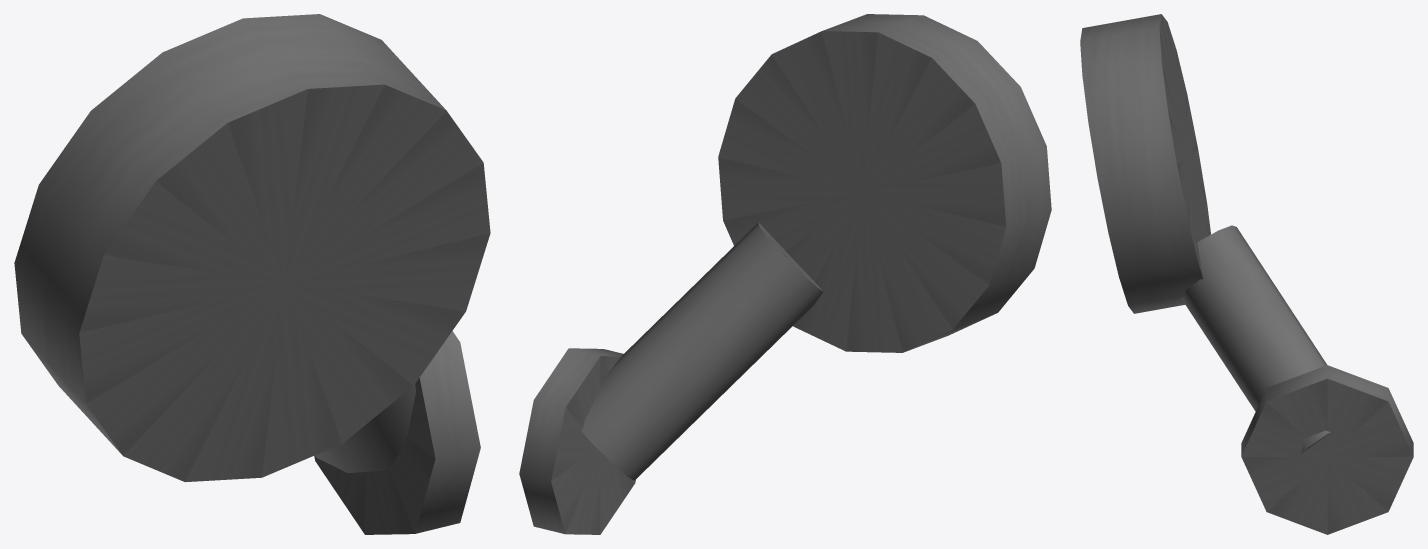
Rendered from mastarmcurve_10x2_c6_east.obj.
3 renders of one model, left to right at view 1: azimuth 30°, elevation 25°; view 2: azimuth 150°, elevation 25°; view 3: azimuth 270°, elevation 25°, orthographic. The views are drawn at different scales.
Parts seen in each view (by area): view 1: mastarm_10x2_c6_east; view 2: mastarm_10x2_c6_east; view 3: mastarm_10x2_c6_east.
Part boxes in pixels (x1=…): mastarm_10x2_c6_east: x1=14, y1=14, x2=490, y2=534; mastarm_10x2_c6_east: x1=519, y1=14, x2=1051, y2=534; mastarm_10x2_c6_east: x1=1080, y1=14, x2=1413, y2=534.
Bounding box in the file's own units: 0.8472 × 1.07 × 0.7737.
